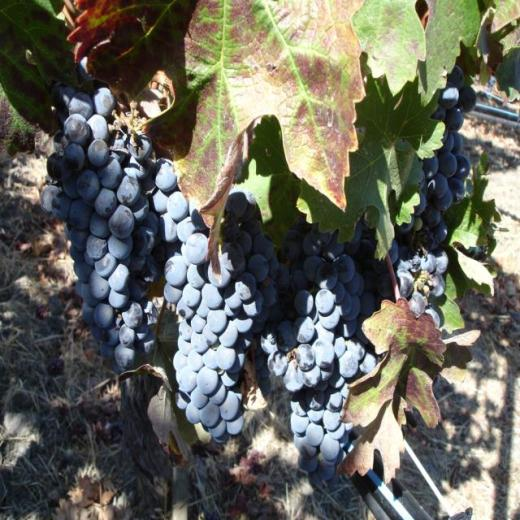Orange: (40, 64, 474, 488)
